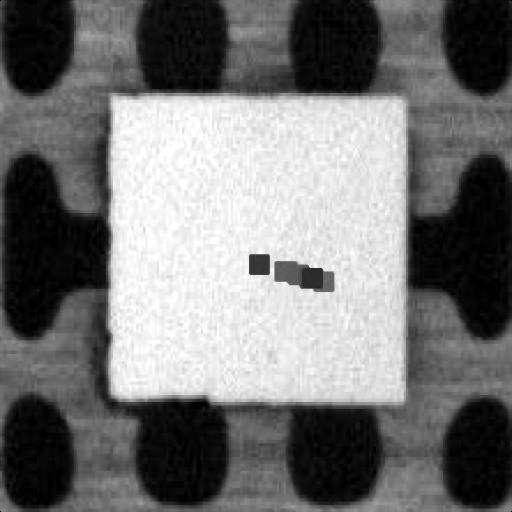DIE_INK: (246, 248, 344, 296)
